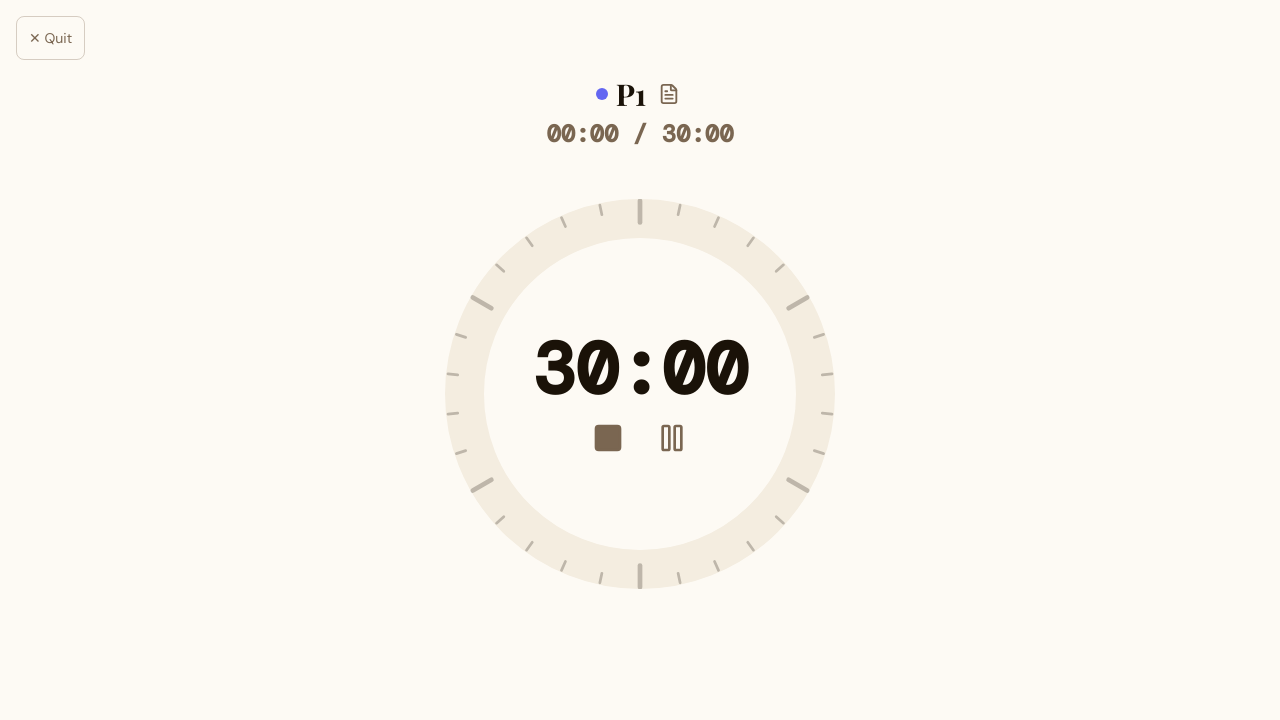
PomodoroTimer controls › STOP & LOG opens confirmation dialog
Click the button named "STOP" at (608, 438), box [592, 422, 624, 454]
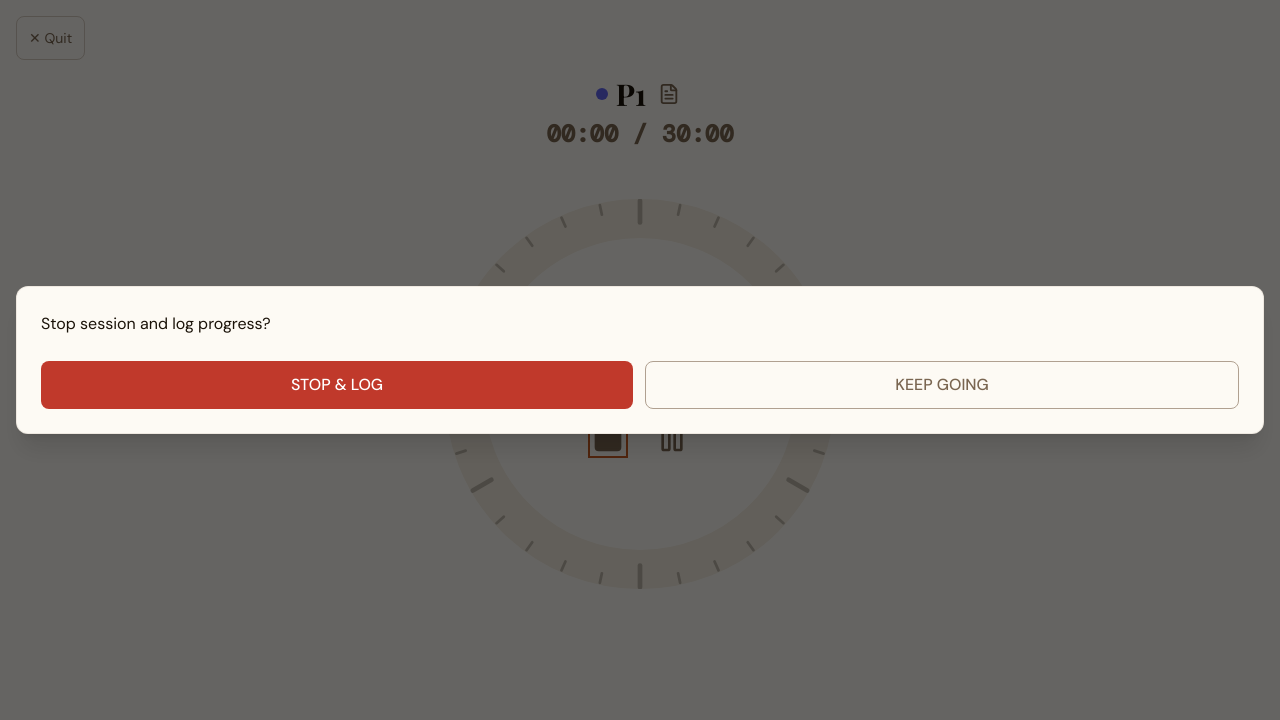
Expected: the text "Stop session and log progress?" is shown, [41, 313, 270, 334]
